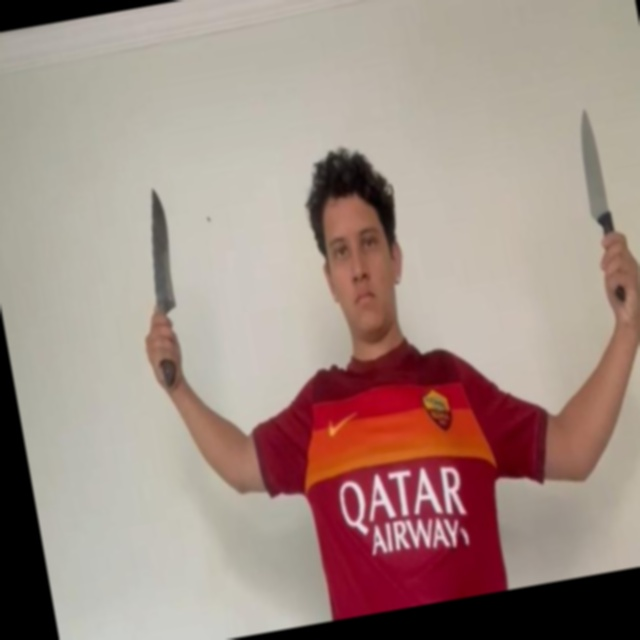Sharp-Object: (137, 184, 184, 316), (572, 108, 612, 226)
